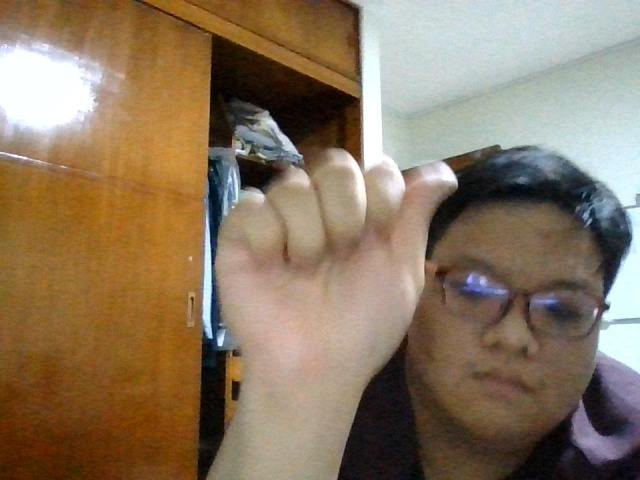a: (206, 146, 459, 384)
